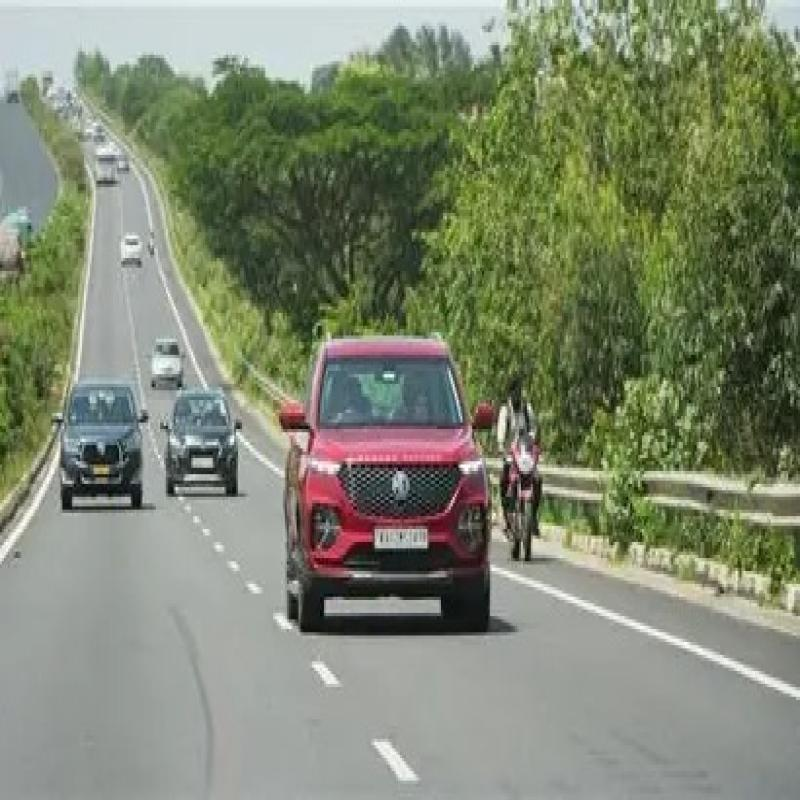license plate on a car: (373, 526, 429, 551), (192, 455, 214, 470), (92, 465, 111, 477)
